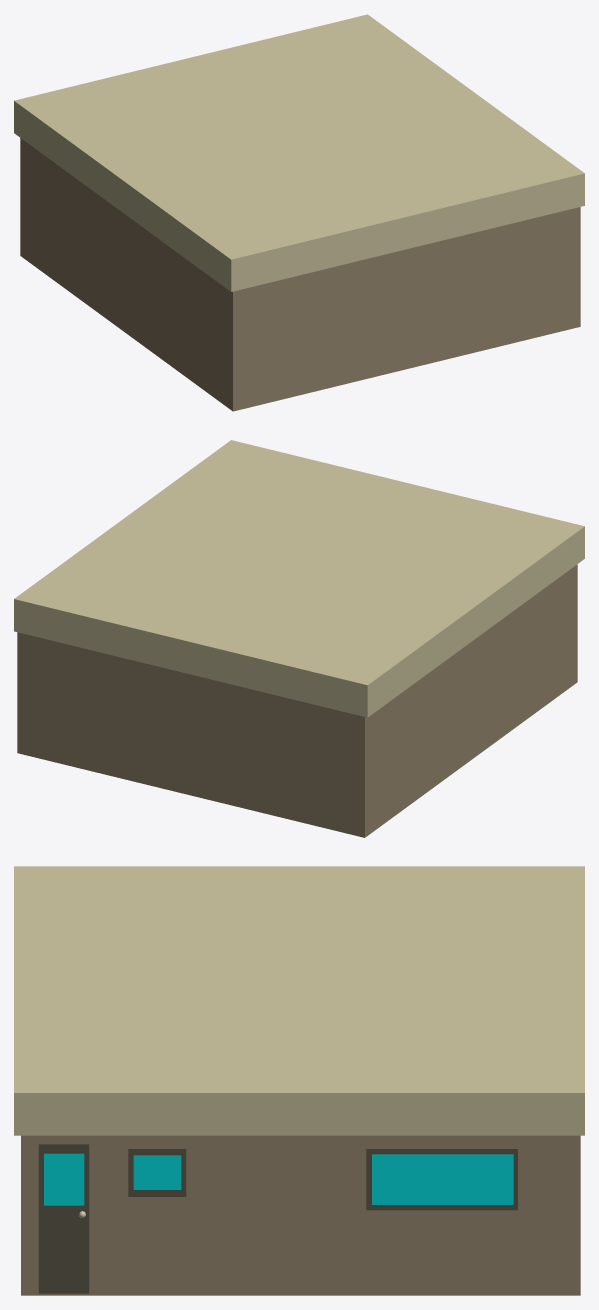
The model's file is house17.fbx.
The picture shows the model from 3 angles, top to bottom: view 1: azimuth 30°, elevation 25°; view 2: azimuth 150°, elevation 25°; view 3: azimuth 270°, elevation 25°; orthographic projection. The views are drawn at different scales.
Parts seen in each view (by area): view 1: house17; view 2: house17; view 3: house17.
Part boxes in pixels (left/top/right/bottom): house17: left=14, top=14, right=584, bottom=411; house17: left=14, top=440, right=584, bottom=837; house17: left=14, top=866, right=584, bottom=1295.
Size of the model in its own units: 295 by 123 by 312.
